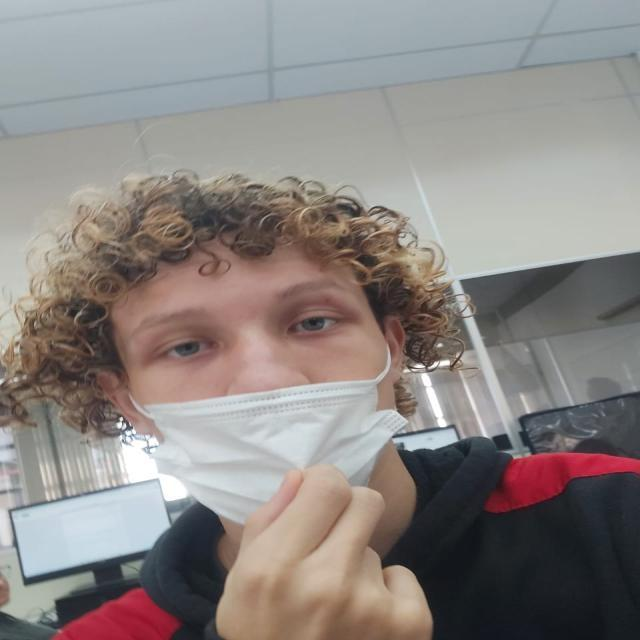hairnet: (110, 245, 386, 486)
